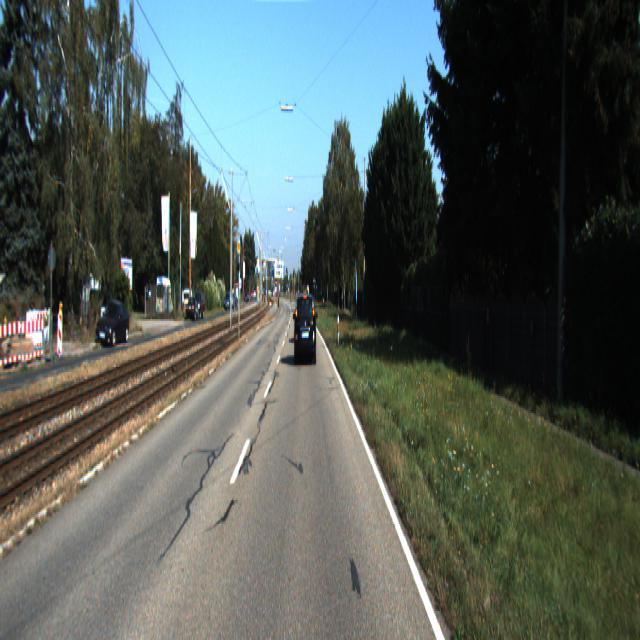Car: (295, 291, 317, 364), (97, 301, 130, 348), (155, 275, 175, 319), (186, 295, 202, 321)
